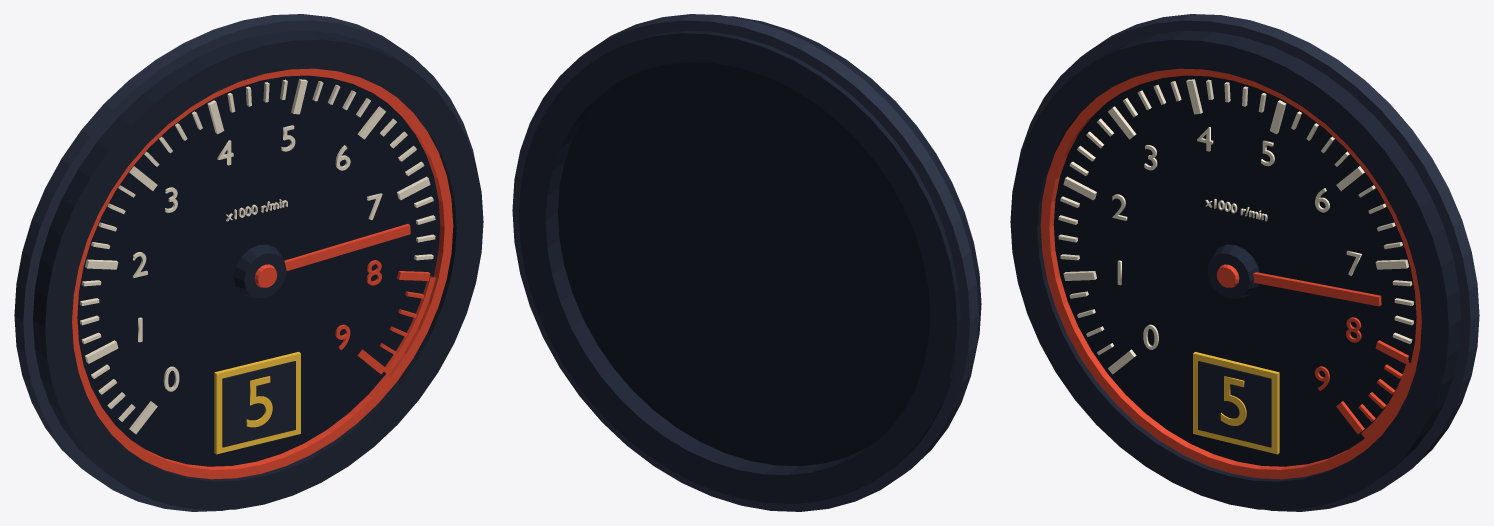
Rendered from tach.glb.
3 renders of one model, left to right at view 1: azimuth 30°, elevation 25°; view 2: azimuth 150°, elevation 25°; view 3: azimuth 330°, elevation 25°, orthographic.
Parts seen in each view (by area): view 1: face, bezel, bezel_lip, accent, gear_bg, gear_frame, hub, needle, redzone, gear; view 2: face, bezel, bezel_lip; view 3: face, bezel, bezel_lip, accent, gear_bg, gear_frame, hub, needle, gear.
Boxes of the visible parts, bbox=[...] form: face: bbox=[77, 75, 440, 466]; bezel: bbox=[33, 31, 483, 510]; bezel_lip: bbox=[14, 14, 475, 511]; accent: bbox=[72, 68, 453, 479]; gear_bg: bbox=[222, 361, 295, 447]; gear_frame: bbox=[214, 352, 300, 454]; hub: bbox=[234, 244, 286, 298]; needle: bbox=[284, 224, 410, 270]; redzone: bbox=[384, 276, 435, 374]; gear: bbox=[246, 376, 272, 427]; face: bbox=[558, 62, 930, 466]; bezel: bbox=[518, 16, 981, 503]; bezel_lip: bbox=[512, 14, 978, 511]; face: bbox=[1053, 75, 1416, 466]; bezel: bbox=[1010, 31, 1460, 510]; bezel_lip: bbox=[1018, 14, 1479, 511]; accent: bbox=[1040, 68, 1421, 479]; gear_bg: bbox=[1198, 361, 1271, 447]; gear_frame: bbox=[1193, 352, 1279, 454]; hub: bbox=[1207, 244, 1259, 298]; needle: bbox=[1253, 272, 1381, 306]; gear: bbox=[1220, 376, 1246, 425].
Size of the model in its own units: 2.38 by 2.38 by 0.25.
